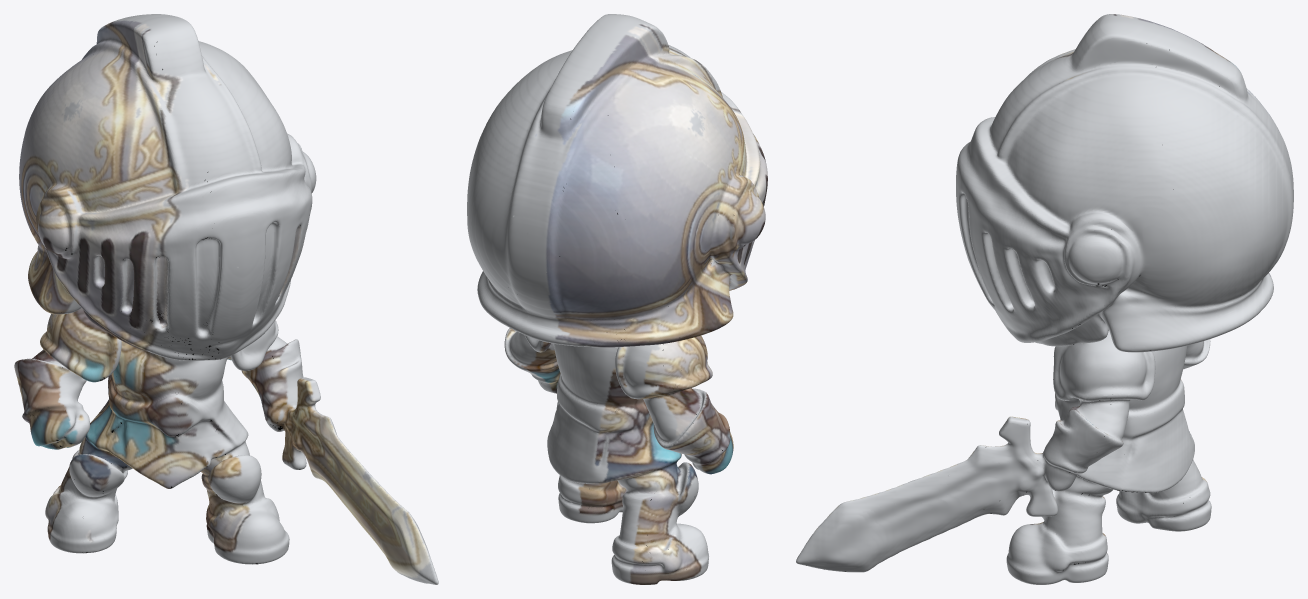
The model's file is ProjectKnight_Paladin_Method1_Paint.glb.
3 views of the same model, side by side, from view 1: azimuth 30°, elevation 25°; view 2: azimuth 150°, elevation 25°; view 3: azimuth 270°, elevation 25° (orthographic). The views are drawn at different scales.
Visible parts, largest first — view 1: Paladin; view 2: Paladin; view 3: Paladin.
Part boxes in pixels (x1,y1,x2,y2): Paladin: (14,14,438,584); Paladin: (467,14,767,584); Paladin: (796,14,1293,584).
Size of the model in its own units: 1.07 by 2 by 1.72.
1 material, 1 textured.
